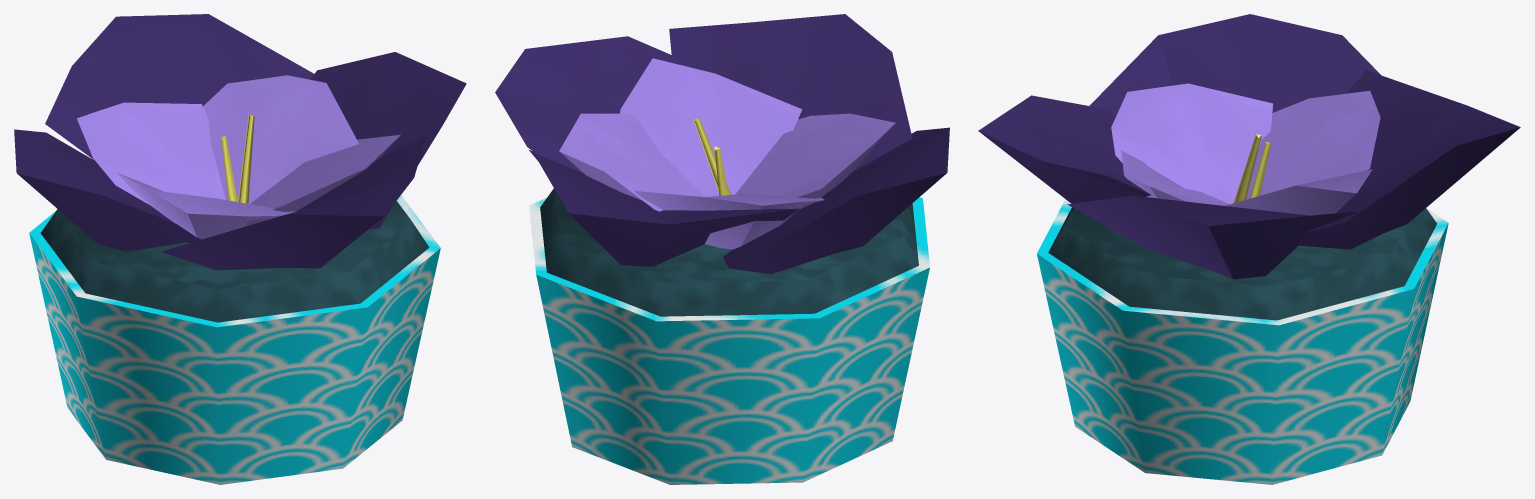
Rendered from Cupcake_B_5.FBX.
The picture shows the model from 3 angles, left to right: view 1: azimuth 30°, elevation 25°; view 2: azimuth 150°, elevation 25°; view 3: azimuth 270°, elevation 25°; orthographic projection. The views are drawn at different scales.
Parts seen in each view (by area): view 1: Cupcake_B; view 2: Cupcake_B; view 3: Cupcake_B.
Boxes of the visible parts, <box> form: Cupcake_B: <box>14,14,466,484</box>; Cupcake_B: <box>495,14,949,484</box>; Cupcake_B: <box>978,14,1520,484</box>.
Bounding box in the file's own units: 38.73 × 26.15 × 41.87.
